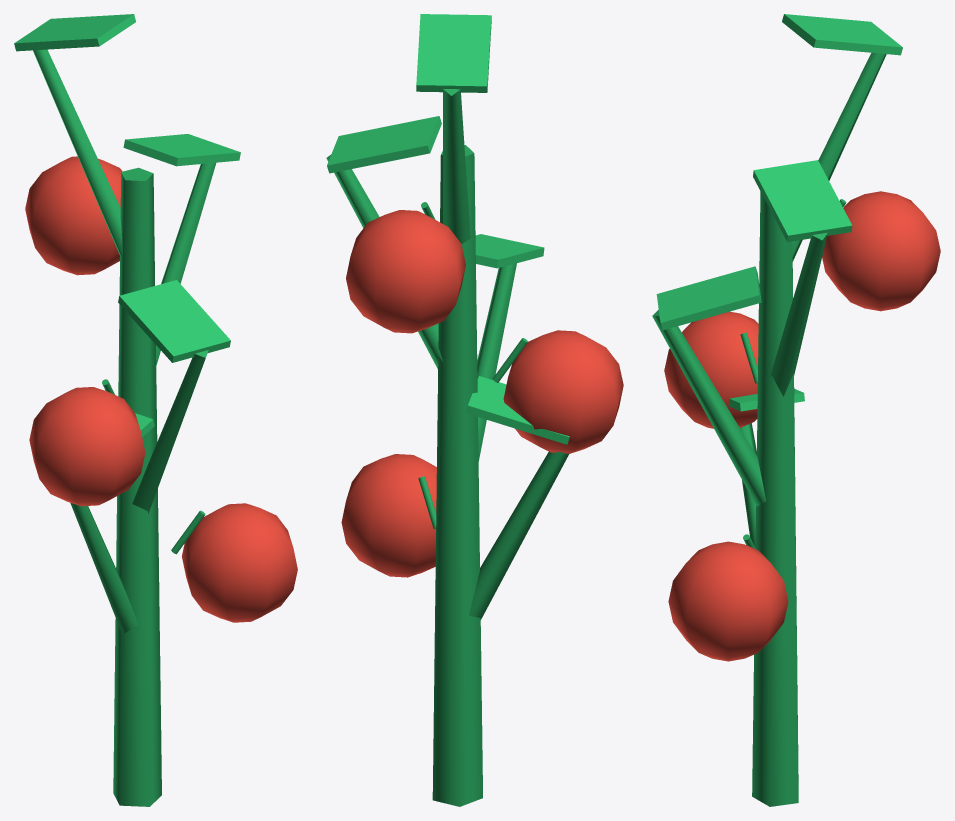
File: crop_tomato.glb
The picture shows the model from 3 angles, left to right: view 1: azimuth 30°, elevation 25°; view 2: azimuth 150°, elevation 25°; view 3: azimuth 270°, elevation 25°; orthographic projection. The views are drawn at different scales.
Parts seen in each view (by area): view 1: scale_group; view 2: scale_group; view 3: scale_group.
Boxes of the visible parts, <box> form: scale_group: <box>14,14,297,806</box>; scale_group: <box>326,14,623,806</box>; scale_group: <box>652,14,940,806</box>.
Size of the model in its own units: 0.1739 by 0.4918 by 0.1682.
